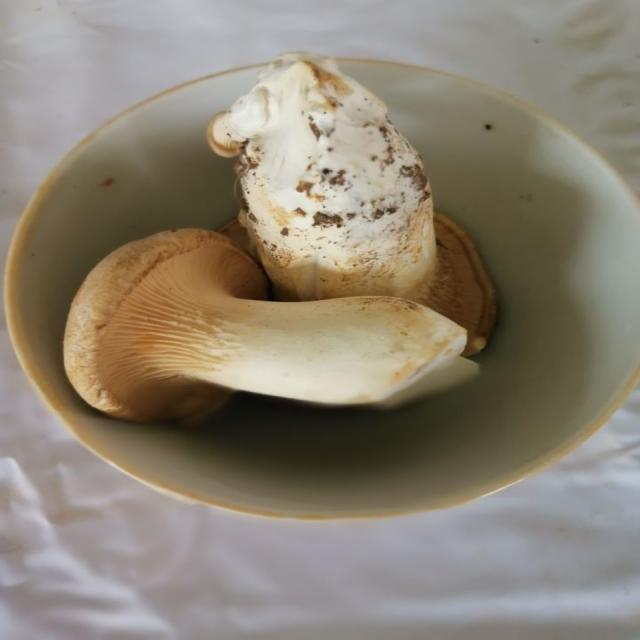Pleurotus cystidiosus: (214, 57, 499, 357), (68, 226, 481, 424)
